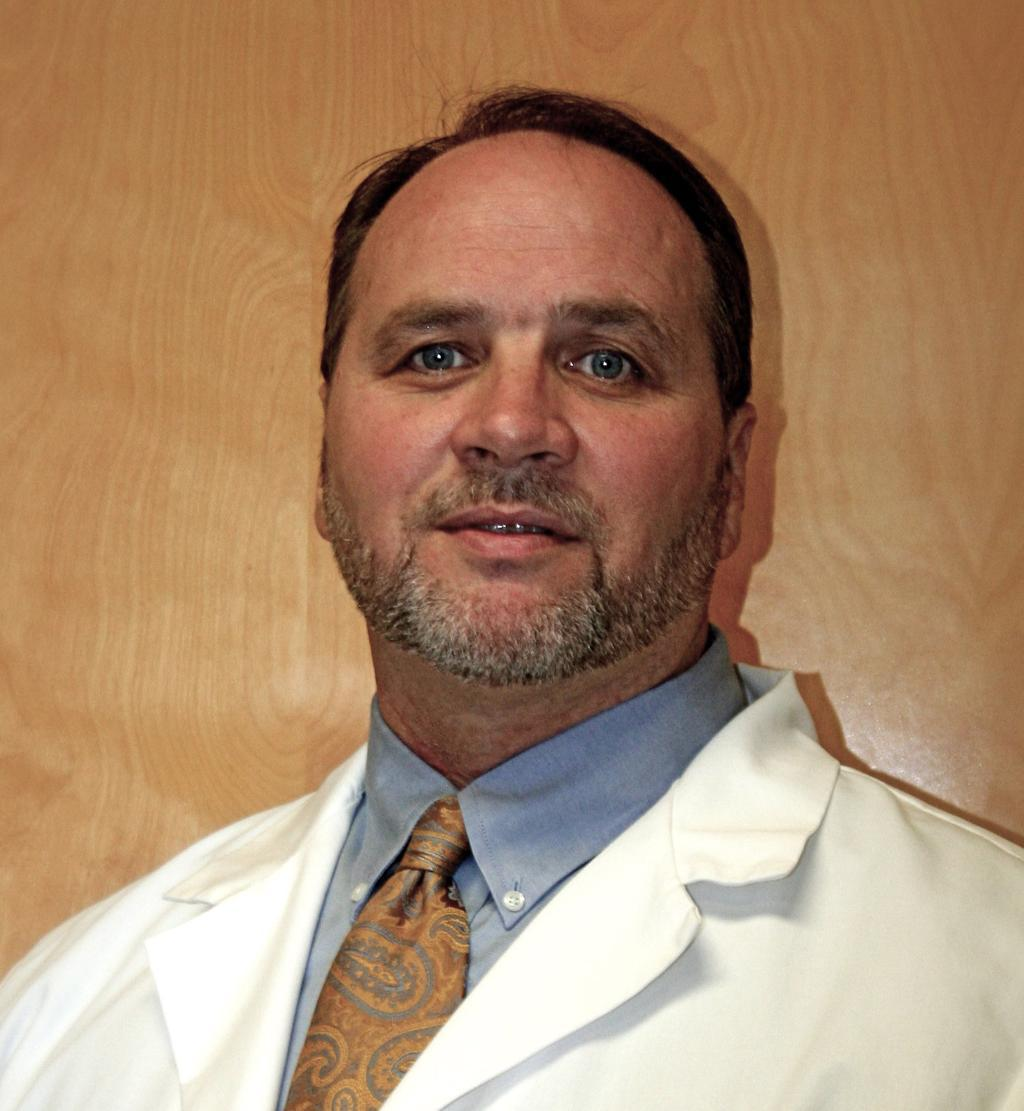face: (329, 142, 726, 680)
